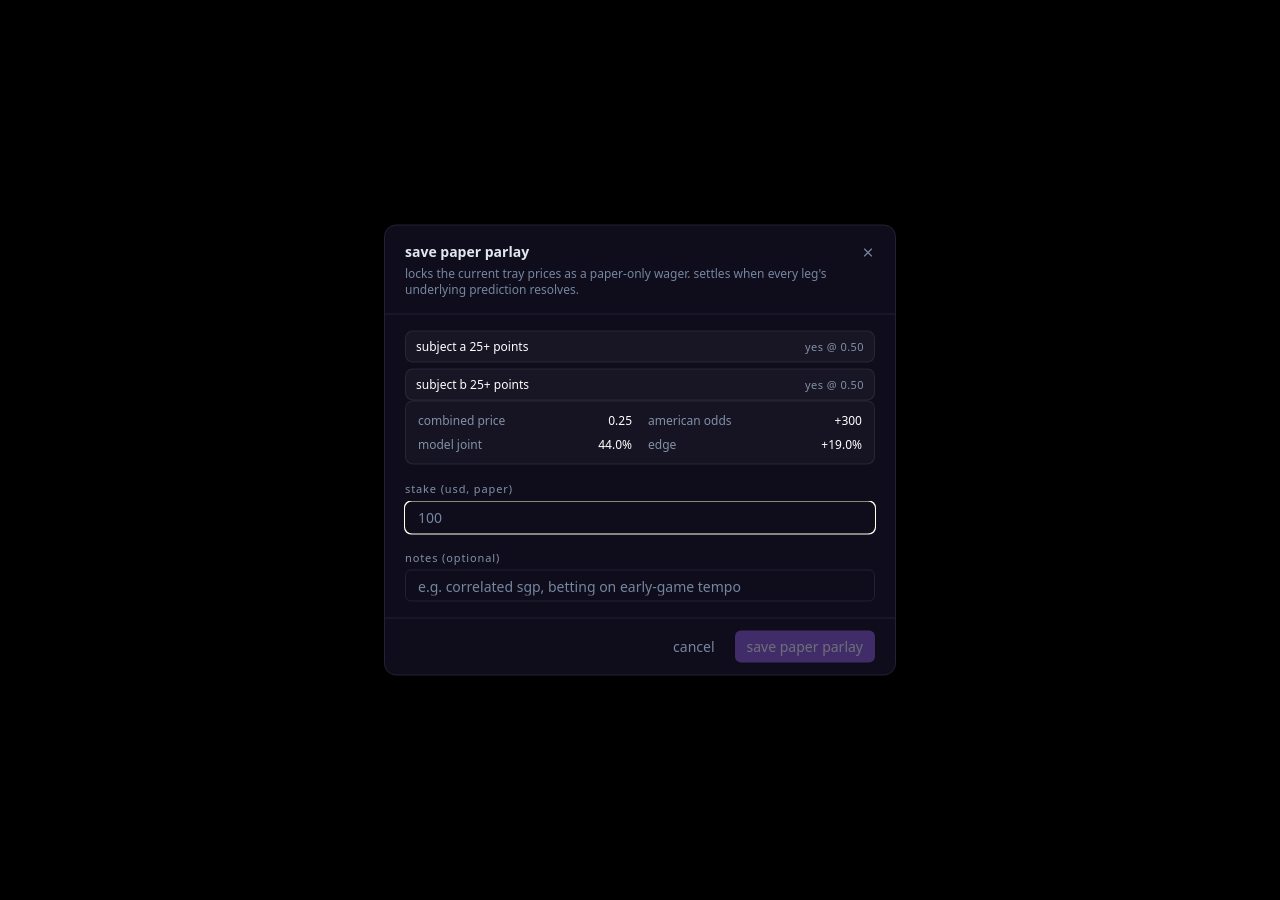
Test: PaperParlayDialog › displays the backend error message inline and keeps the dialog open on failure
Expected: the text "44.0%" is shown, [598, 436, 632, 454]
In the field with test id "paper-parlay-dialog-stake": (640,517) [405, 501, 875, 533], type "50"
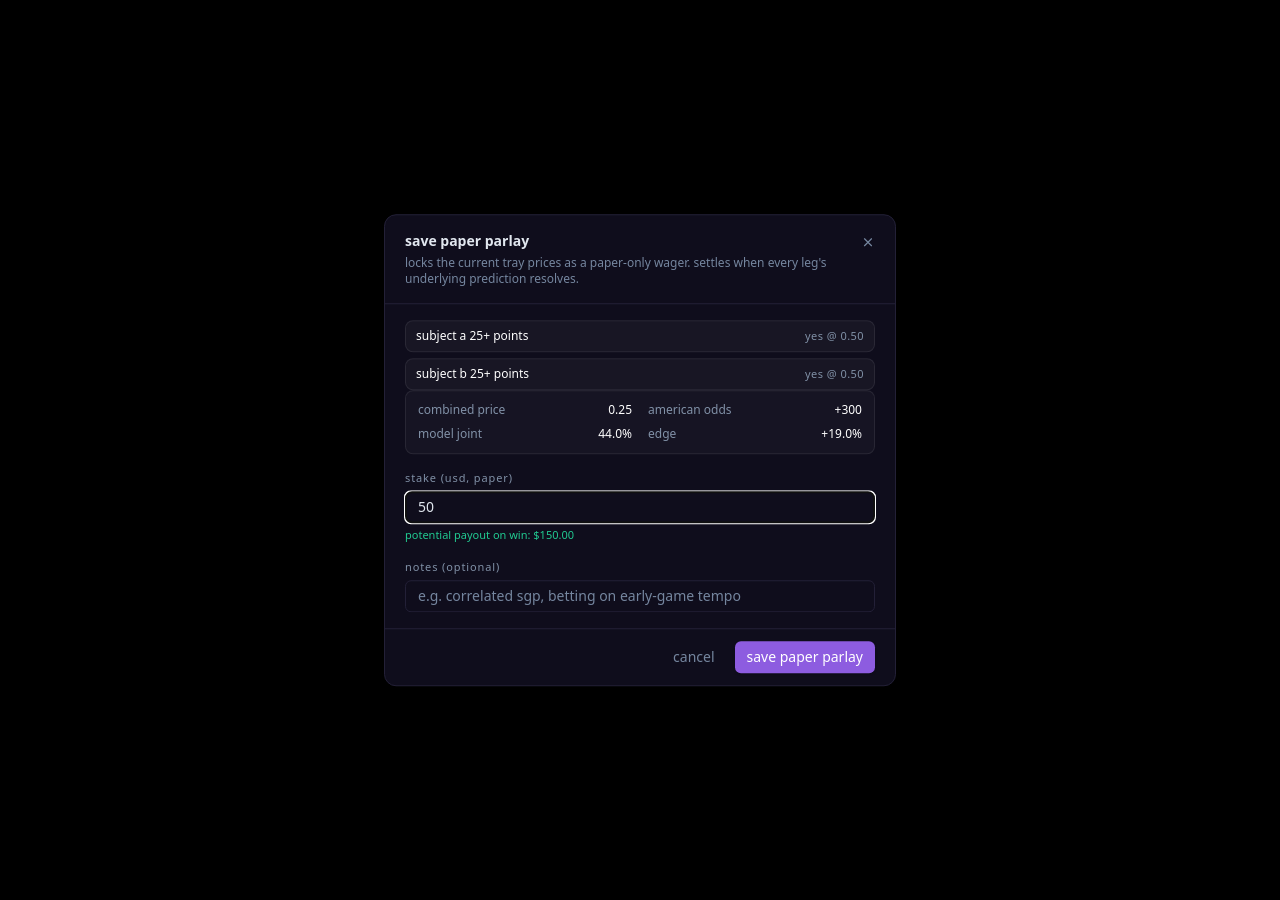
Click the button with test id "paper-parlay-dialog-submit": (805,657) [734, 641, 875, 673]
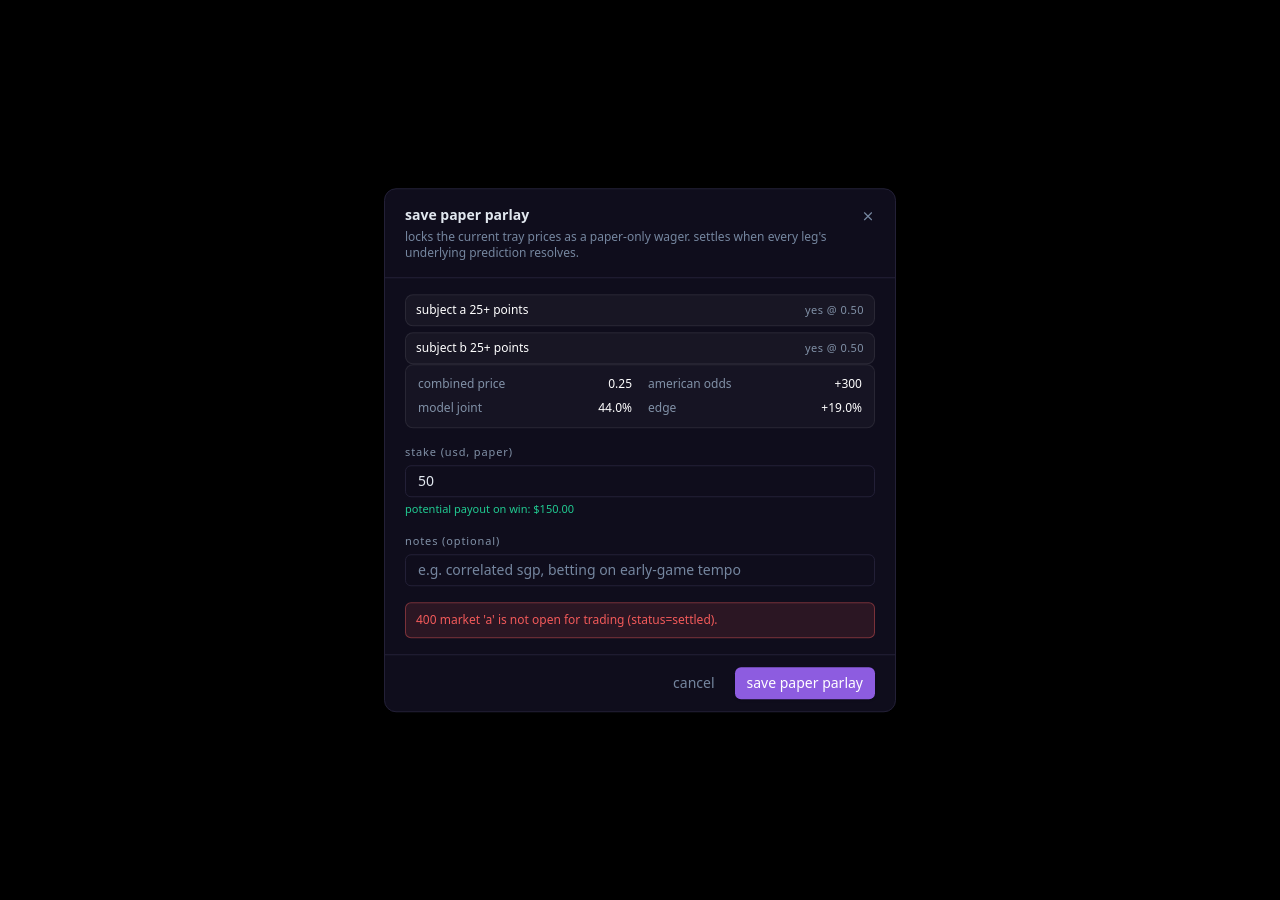
Now the message with test id "paper-parlay-dialog-error" shows "not open for trading", box [416, 611, 718, 628]
